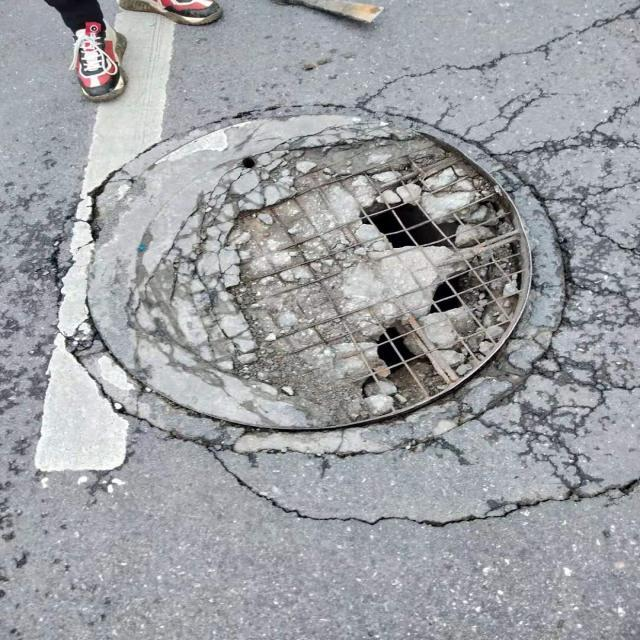Faulty: (61, 104, 535, 440)
